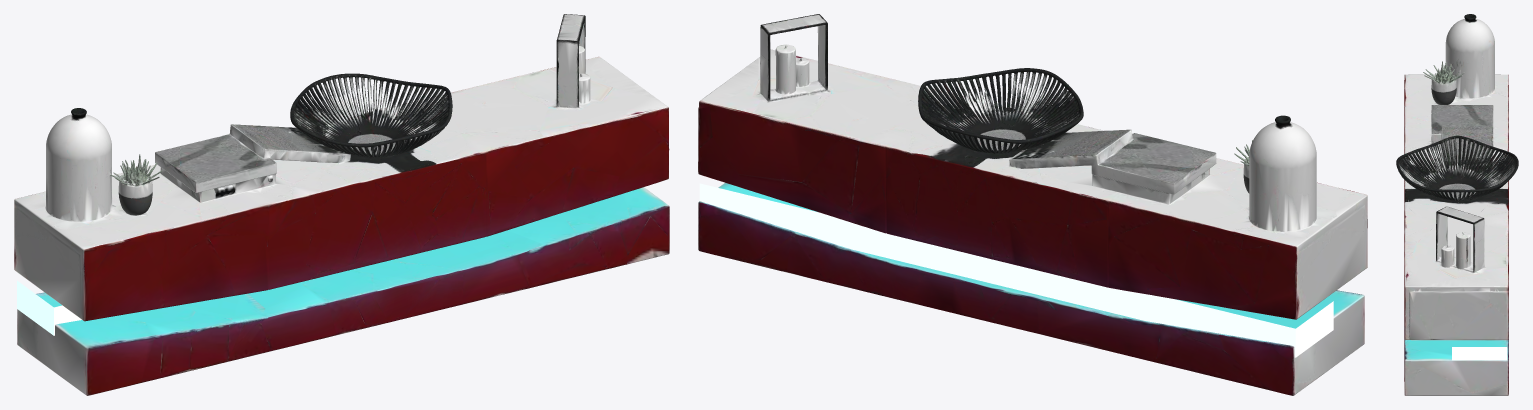
The model's file is tv-board.glb.
3 views of the same model, side by side, from view 1: azimuth 30°, elevation 25°; view 2: azimuth 150°, elevation 25°; view 3: azimuth 270°, elevation 25° (orthographic). The views are drawn at different scales.
Parts seen in each view (by area): view 1: object 1, LED-Fach; view 2: object 1, LED-Fach; view 3: object 1, LED-Fach.
Boxes of the visible parts, x1,y1,x2,y2 form: object 1: (14,14,669,395); LED-Fach: (17,280,81,335); object 1: (698,14,1367,395); LED-Fach: (699,183,1333,357); object 1: (1396,14,1518,395); LED-Fach: (1452,347,1507,360).
Bounding box in the file's own units: 1.9 × 0.7571 × 0.4623.
Materials: 2 (1 with a texture image).
